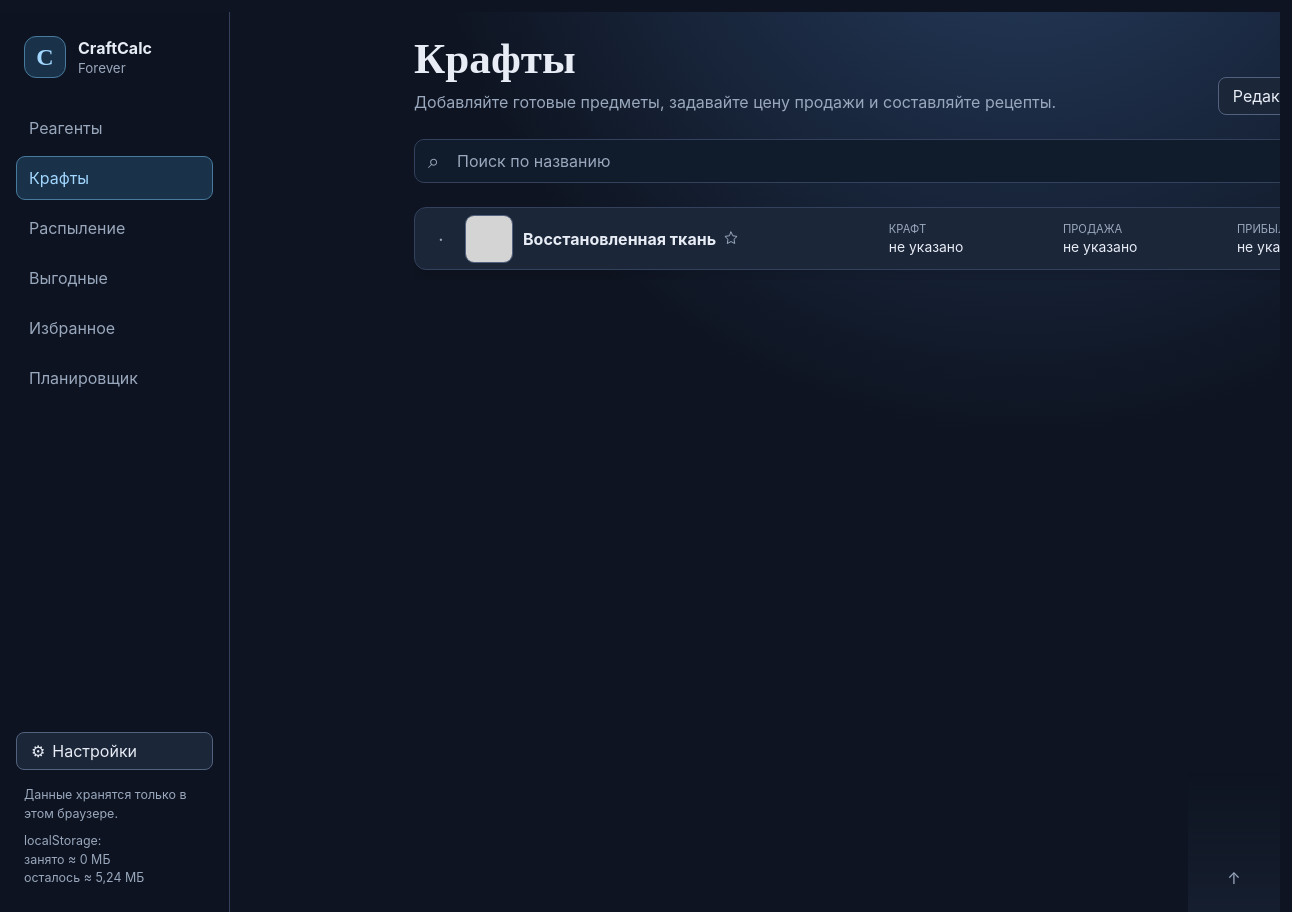
Test: открывает избранное из меню и показывает отмеченный предмет
This screenshot has width=1292, height=912.
Click the button named "Добавить в избранное: Восстановленная ткань": (731, 237) [723,228,739,246]
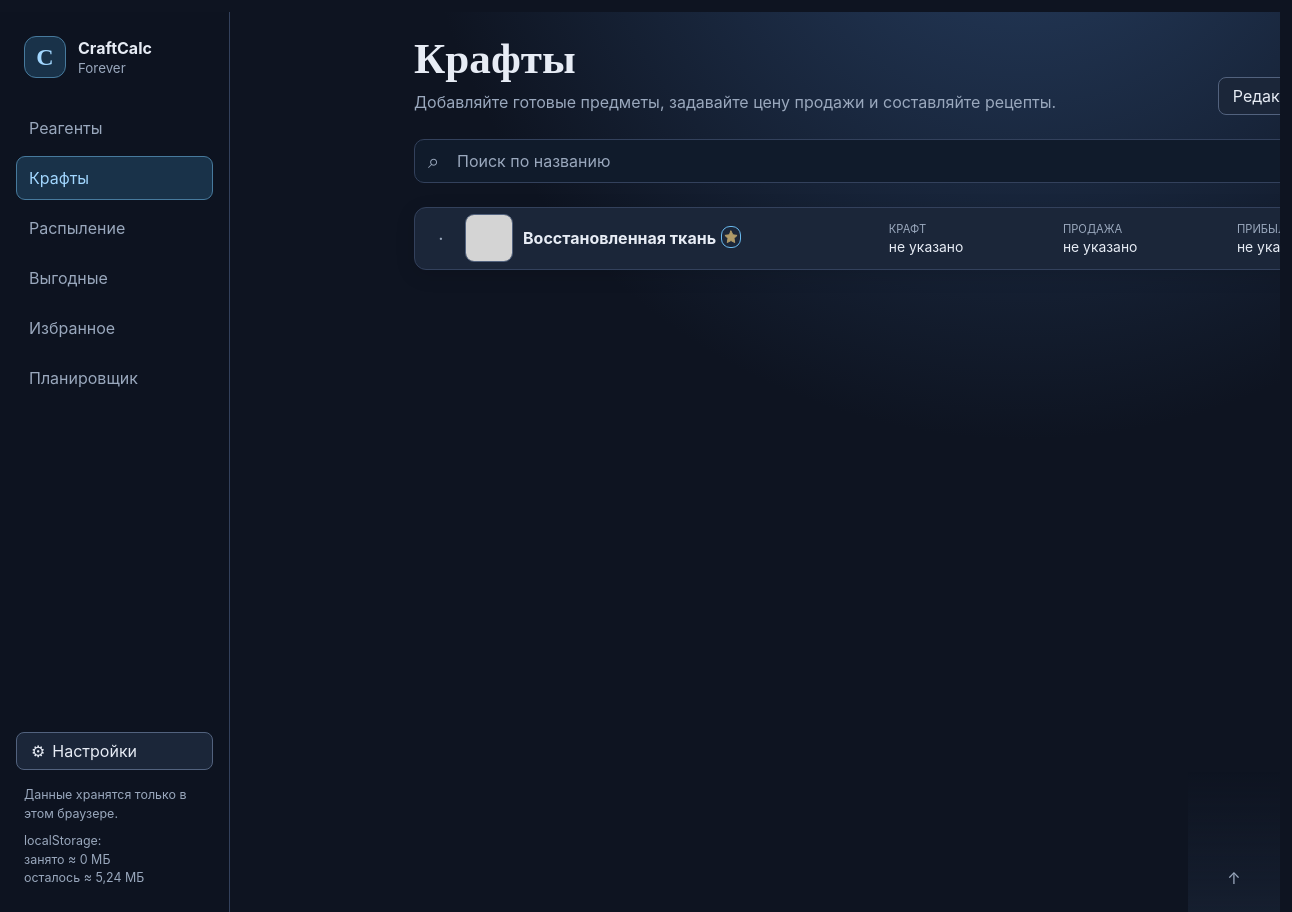
Click the button "Избранное": (114, 328) [16,306,213,350]
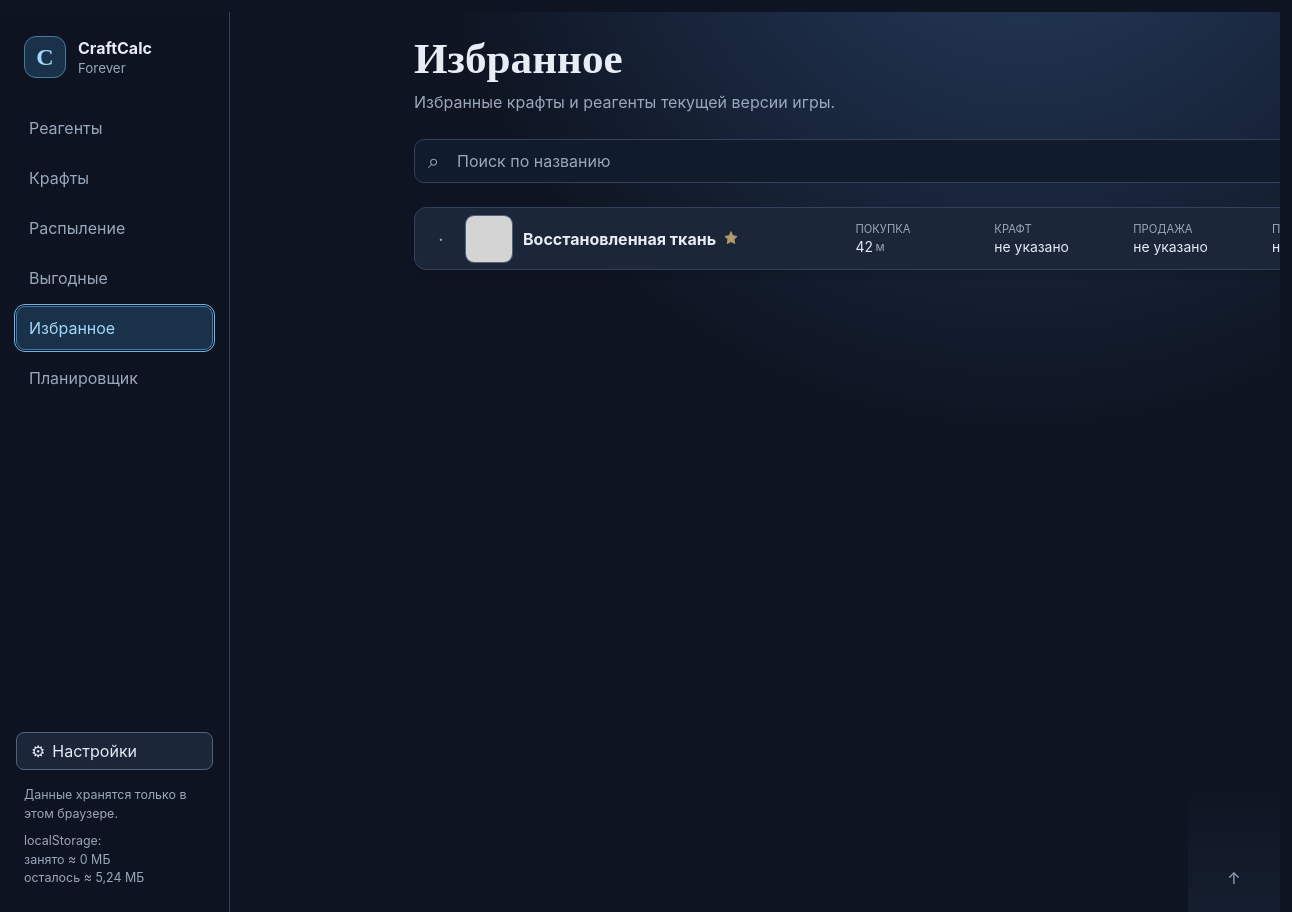
Expected: the text "Восстановленная ткань" is shown, [523,228,716,248]
Expected: the heading "Избранное" is shown, [414,35,623,82]
